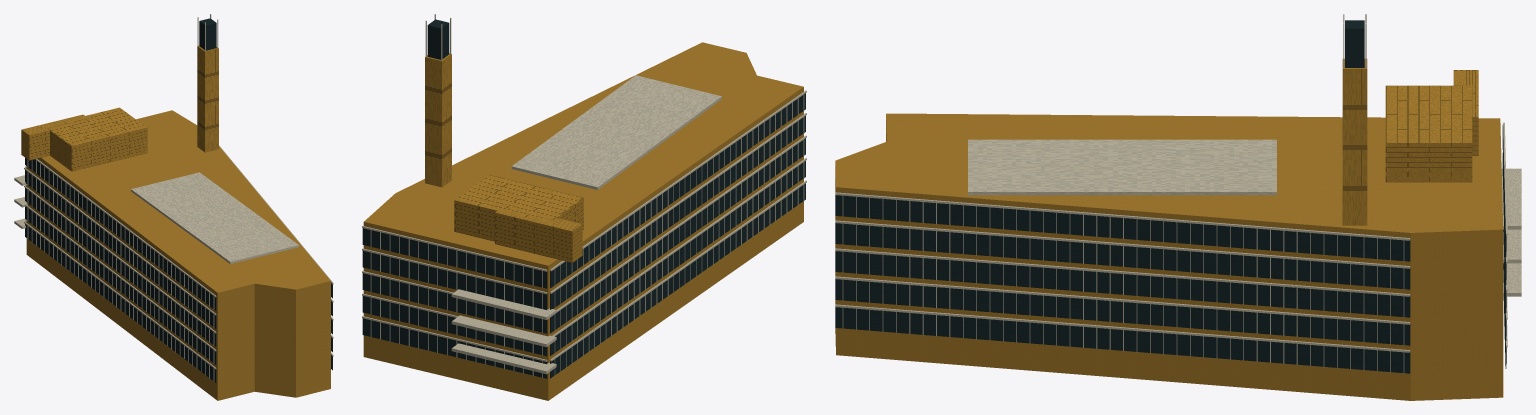
3 renders of one model, left to right at view 1: azimuth 30°, elevation 25°; view 2: azimuth 150°, elevation 25°; view 3: azimuth 270°, elevation 25°, orthographic. The views are drawn at different scales.
Visible parts, largest first — view 1: bijenkorf-0, bijenkorf-2, bijenkorf-1; view 2: bijenkorf-0, bijenkorf-1, bijenkorf-2; view 3: bijenkorf-0, bijenkorf-1, bijenkorf-2.
Part boxes in pixels (x1,y1,x2,y2): bijenkorf-0: [21, 45, 330, 400]; bijenkorf-2: [14, 14, 333, 381]; bijenkorf-1: [25, 18, 332, 382]; bijenkorf-0: [363, 42, 803, 400]; bijenkorf-1: [362, 19, 805, 378]; bijenkorf-2: [362, 14, 806, 377]; bijenkorf-0: [835, 58, 1503, 400]; bijenkorf-1: [835, 20, 1506, 373]; bijenkorf-2: [835, 14, 1521, 373].
Bounding box in the file's own units: 48.15 × 66 × 111.
3 materials, 3 textured.
